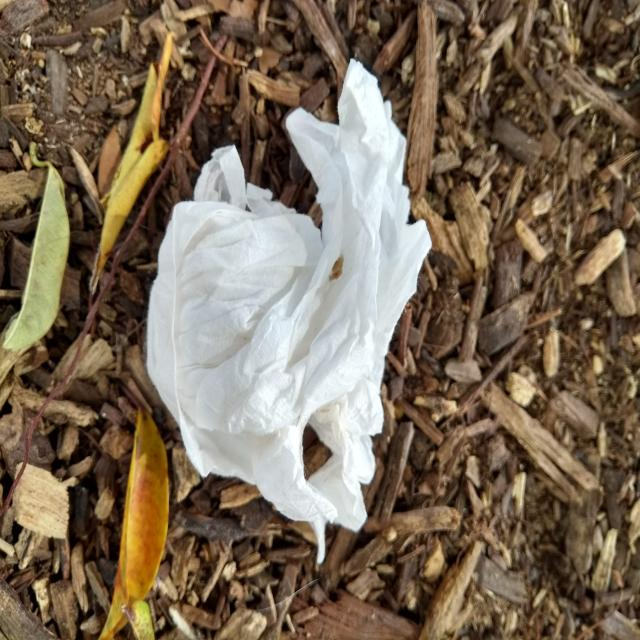Tissues: (147, 59, 431, 563)
